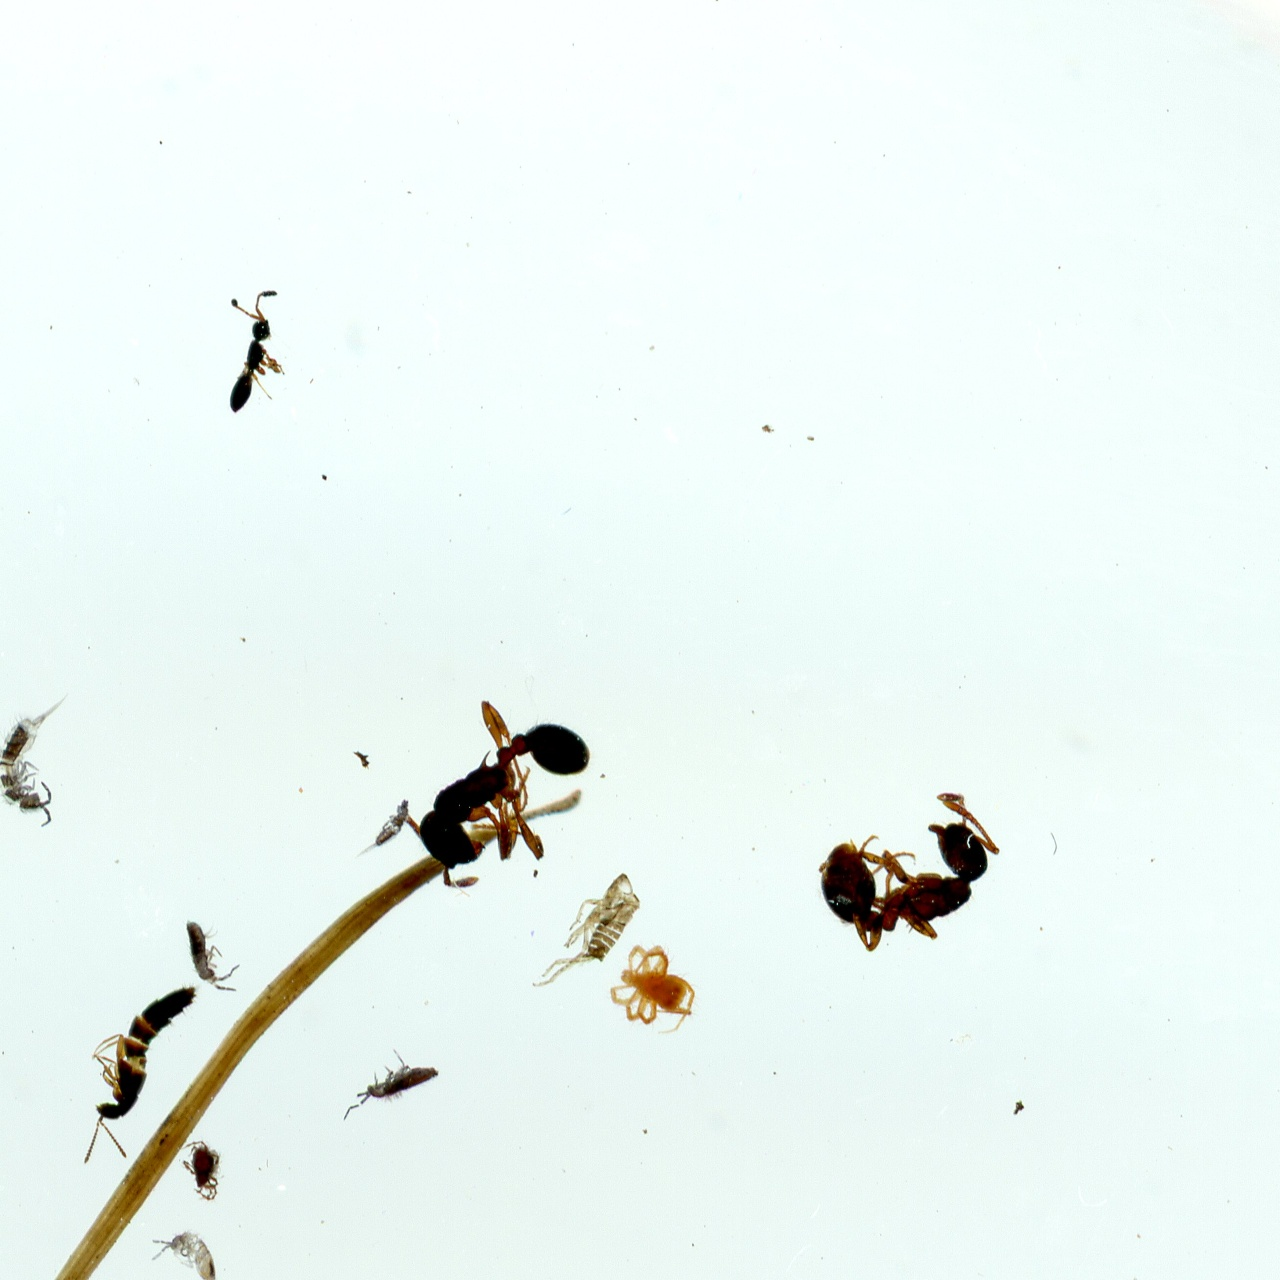arthropod: (402, 698, 595, 894), (54, 960, 206, 1188), (813, 786, 1003, 955), (321, 1030, 457, 1126), (0, 680, 73, 837), (221, 283, 295, 424), (600, 941, 701, 1037), (170, 898, 250, 1007), (147, 1230, 225, 1280), (350, 799, 410, 863), (180, 1139, 224, 1204)
